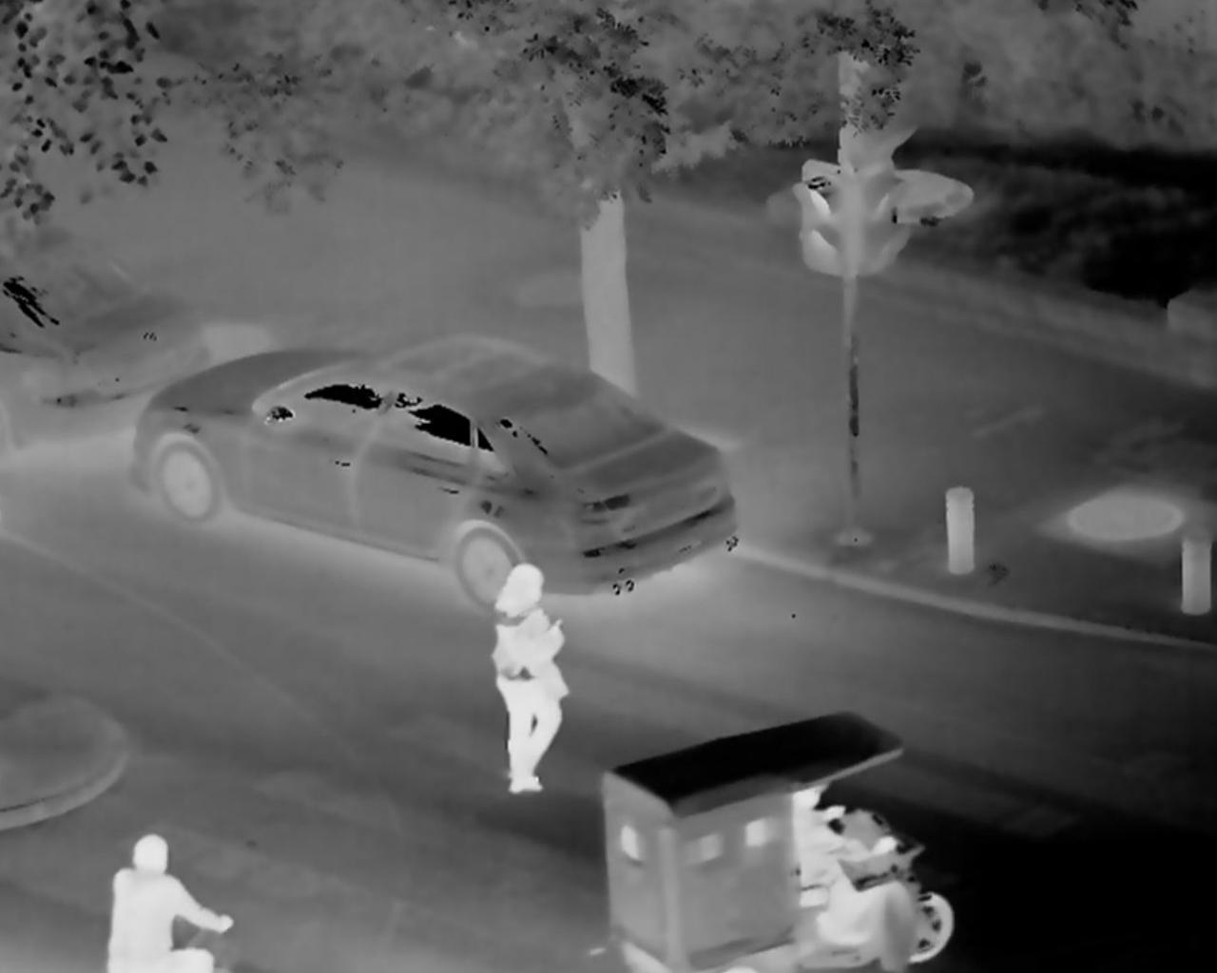person: (494, 557, 570, 808), (791, 783, 898, 944), (116, 830, 224, 973)
